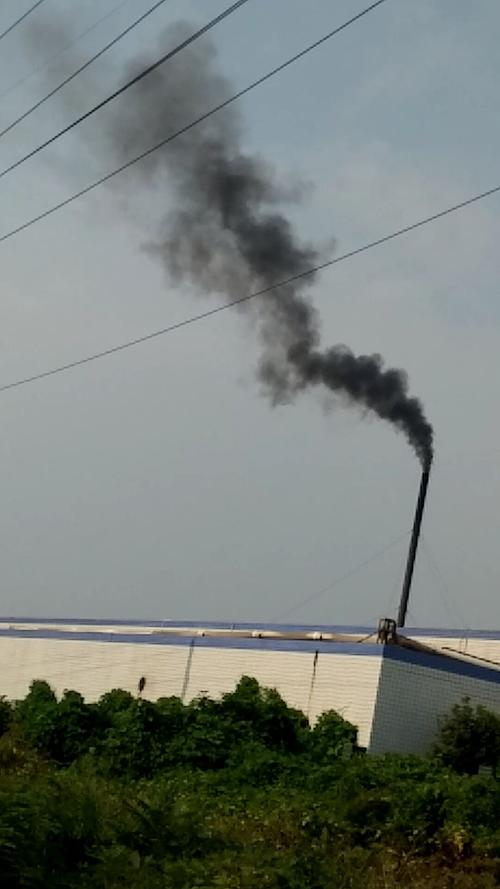smoke: (112, 28, 437, 473)
